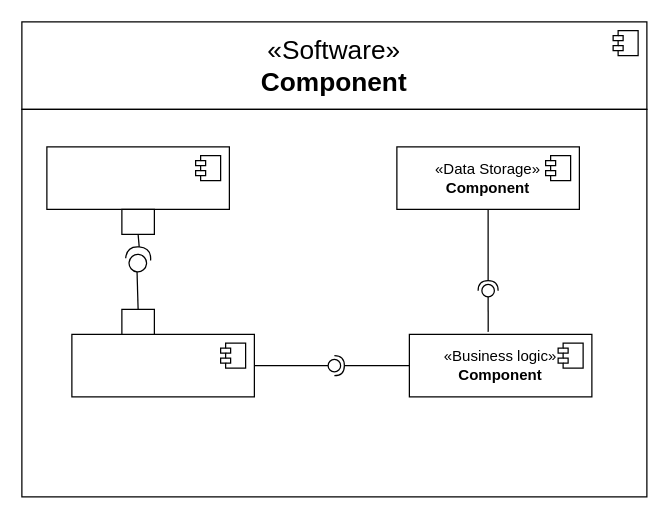
Image size: 669x519. Some labels were removed from this diagram. The shapes that lost their labels are listed below. From the top down, each one's centre as x and y in pixels, then its label:
At pixel 137 177: "«User interface» Component".
At pixel 162 365: "«Application» Component".
